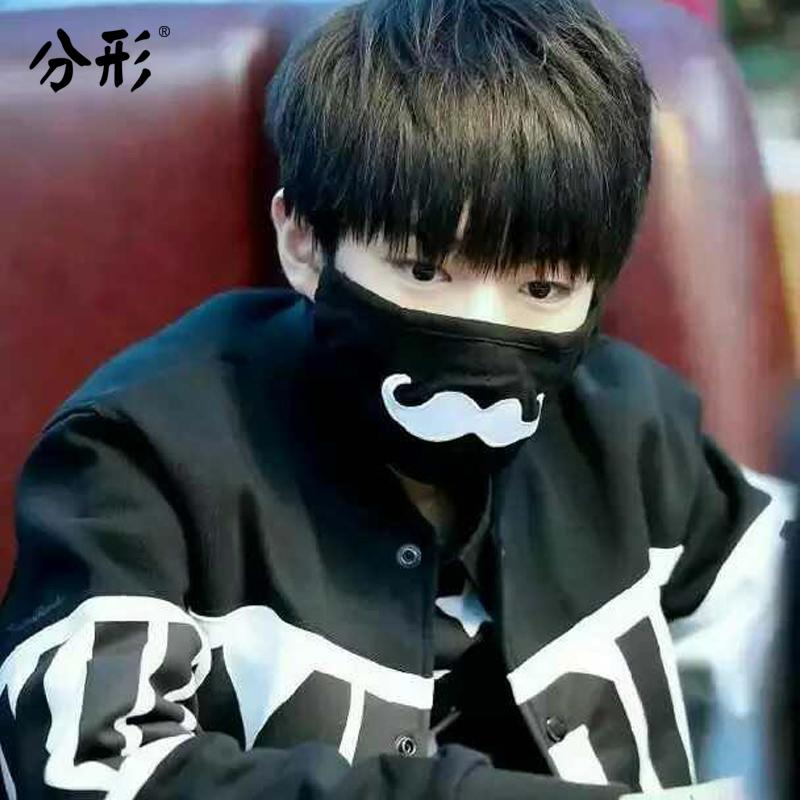OK: (323, 185, 596, 481)
